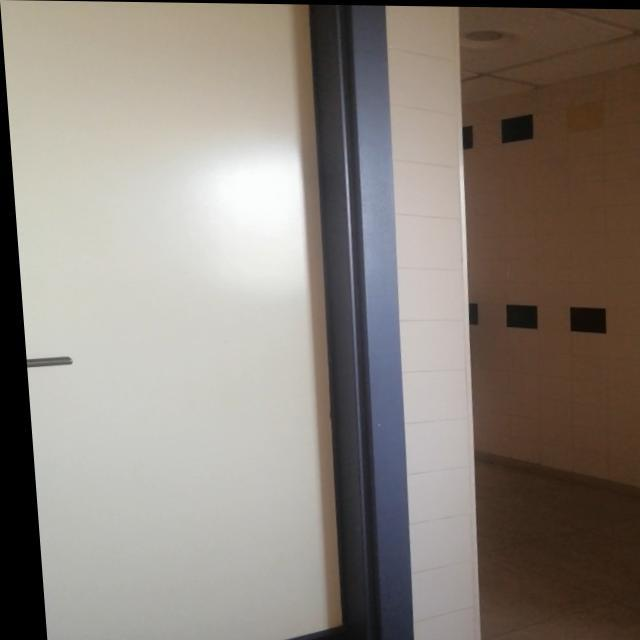door_handle: (21, 352, 72, 369)
